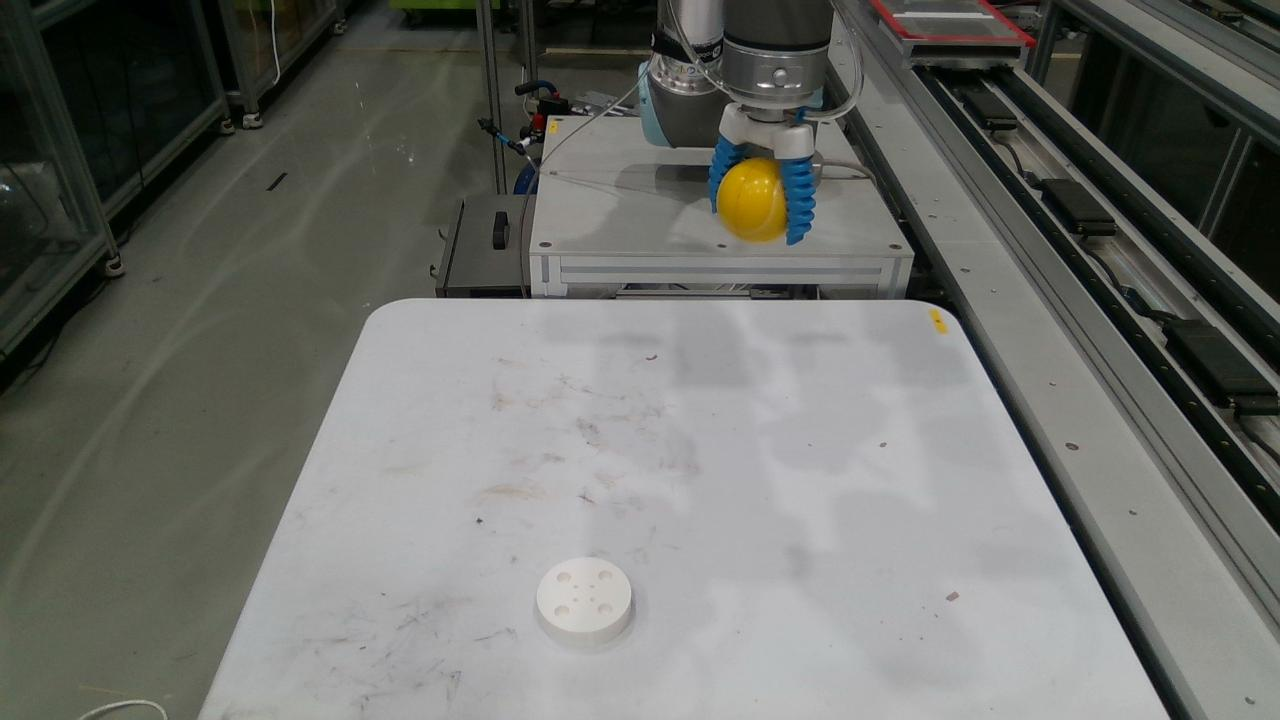UR5: (642, 0, 826, 160)
gripper_left: (708, 136, 747, 212)
gripper_right: (784, 158, 814, 242)
target: (540, 561, 630, 636), (718, 159, 787, 243)
